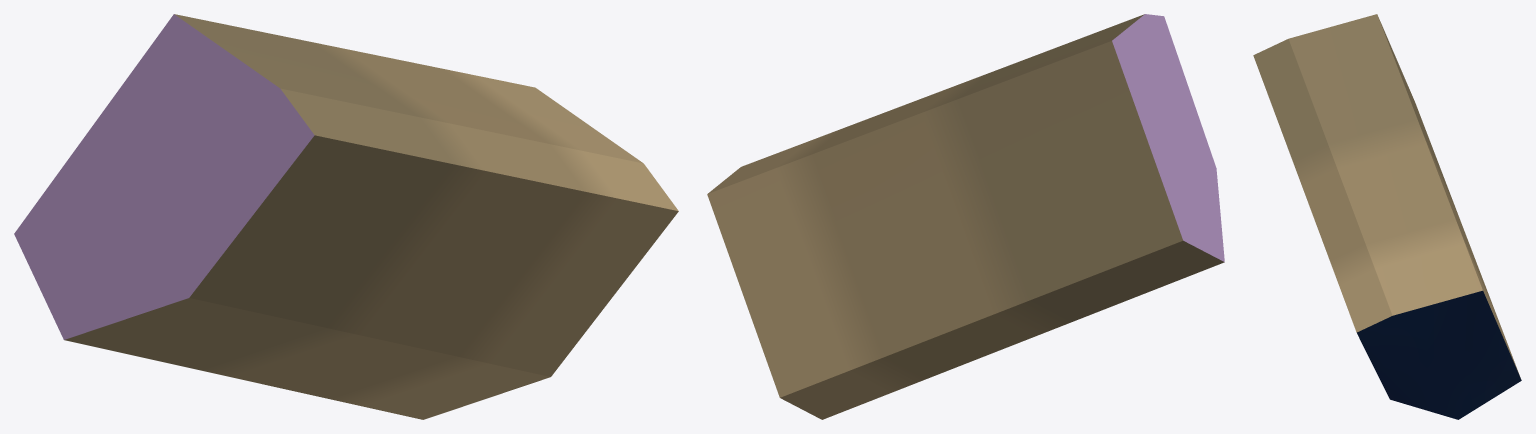
Rendered from 05e7_Saint_Lucia.glb.
3 views of the same model, side by side, from view 1: azimuth 30°, elevation 25°; view 2: azimuth 150°, elevation 25°; view 3: azimuth 270°, elevation 25° (orthographic). The views are drawn at different scales.
Visible parts, largest first — view 1: part_0; view 2: part_0; view 3: part_0.
Boxes of the visible parts, x1,y1,x2,y2 form: part_0: [14, 14, 678, 419]; part_0: [707, 14, 1224, 419]; part_0: [1253, 14, 1521, 419].
Bounding box in the file's own units: 0.2316 × 0.1913 × 0.148.
Materials: 1 (1 with a texture image).
